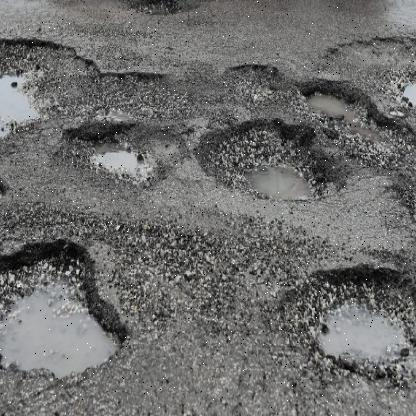pothole: (62, 94, 172, 199)
pothole_water: (1, 211, 142, 404)
